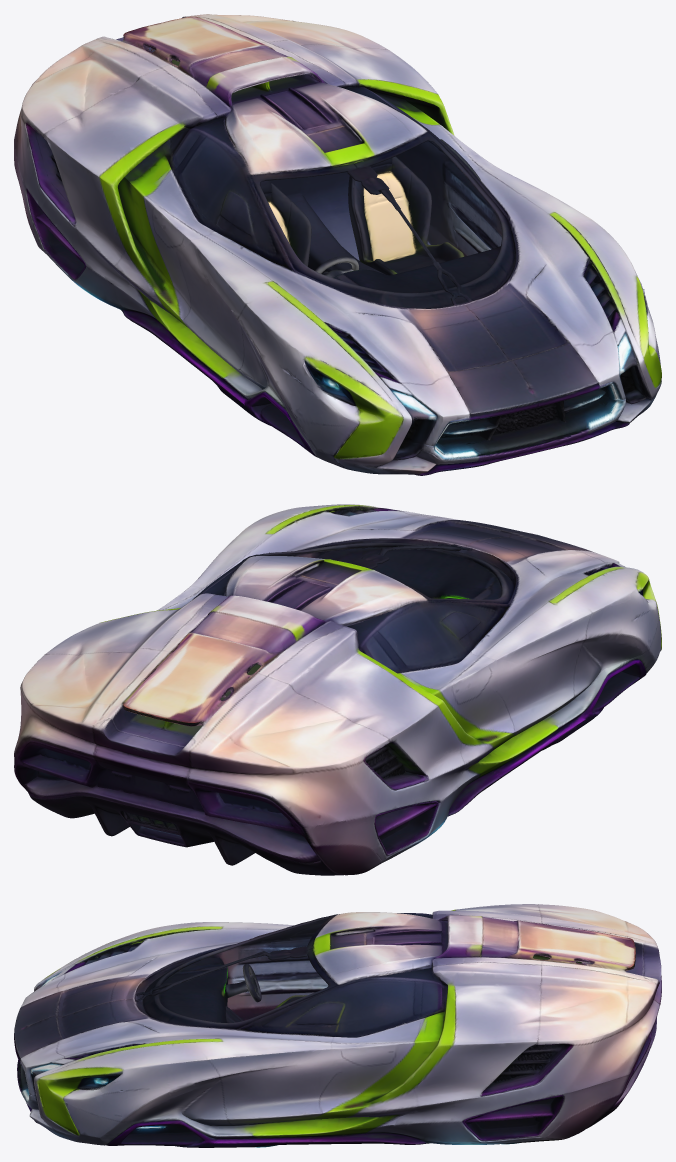
File: Shrike_MK_I_Android_LOD_ready.glb
3 renders of one model, top to bottom at view 1: azimuth 30°, elevation 25°; view 2: azimuth 150°, elevation 25°; view 3: azimuth 270°, elevation 25°, orthographic. The views are drawn at different scales.
Parts seen in each view (by area): view 1: Kestrel_Hull; view 2: Kestrel_Hull; view 3: Kestrel_Hull.
Boxes of the visible parts, box(x1,y1,x2,y2) form: Kestrel_Hull: box(14, 14, 661, 475); Kestrel_Hull: box(14, 504, 661, 875); Kestrel_Hull: box(14, 904, 661, 1147).
Size of the model in its own units: 3.56 by 1.85 by 6.8.
1 material, 1 textured.
